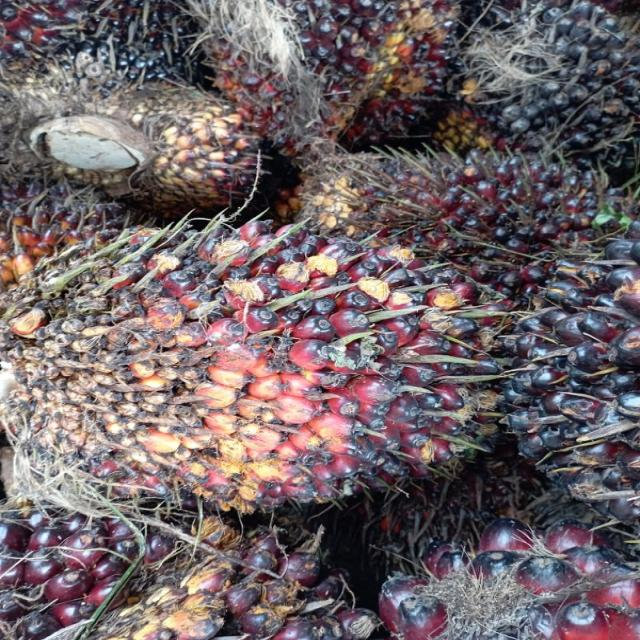fraksi 1: (18, 209, 497, 514), (332, 131, 637, 291)
